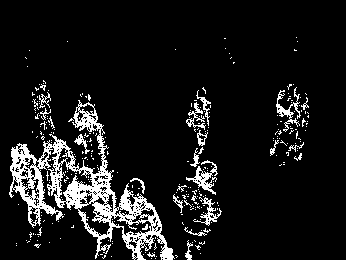person: (175, 158, 223, 254), (71, 173, 116, 254), (12, 146, 47, 234), (116, 179, 159, 241), (185, 85, 220, 161), (76, 101, 113, 168), (41, 134, 75, 196), (273, 84, 294, 156), (32, 80, 56, 132), (295, 92, 308, 161)
